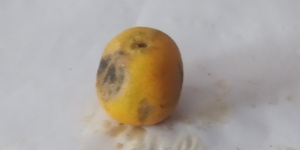BAD: (94, 24, 182, 133)
